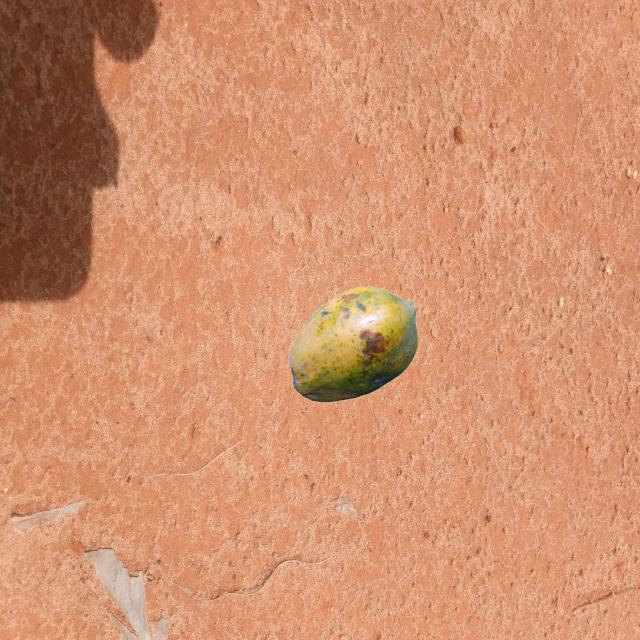Pepaya rippen: (281, 276, 424, 410)
